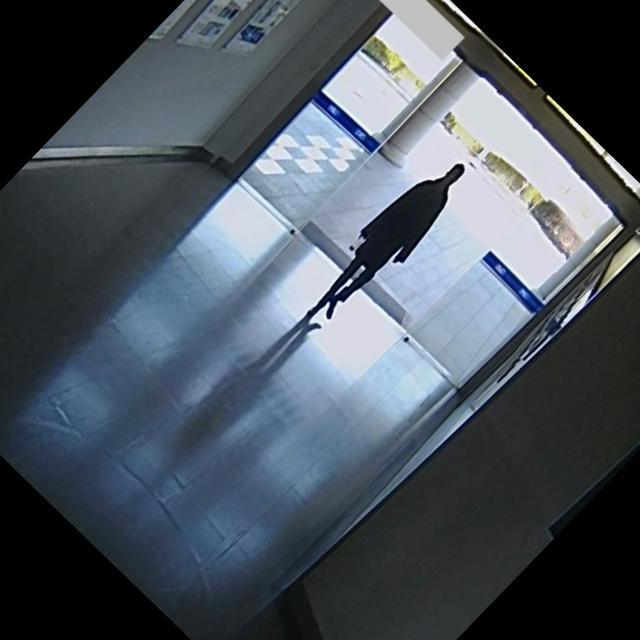person: (284, 134, 492, 347)
